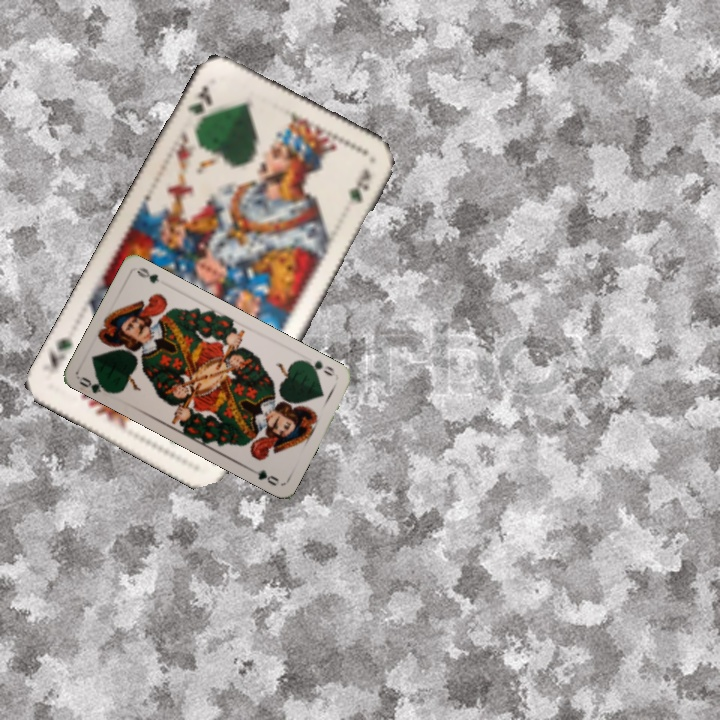GK: (183, 81, 215, 117)
GO: (75, 373, 115, 396), (300, 356, 338, 379)
